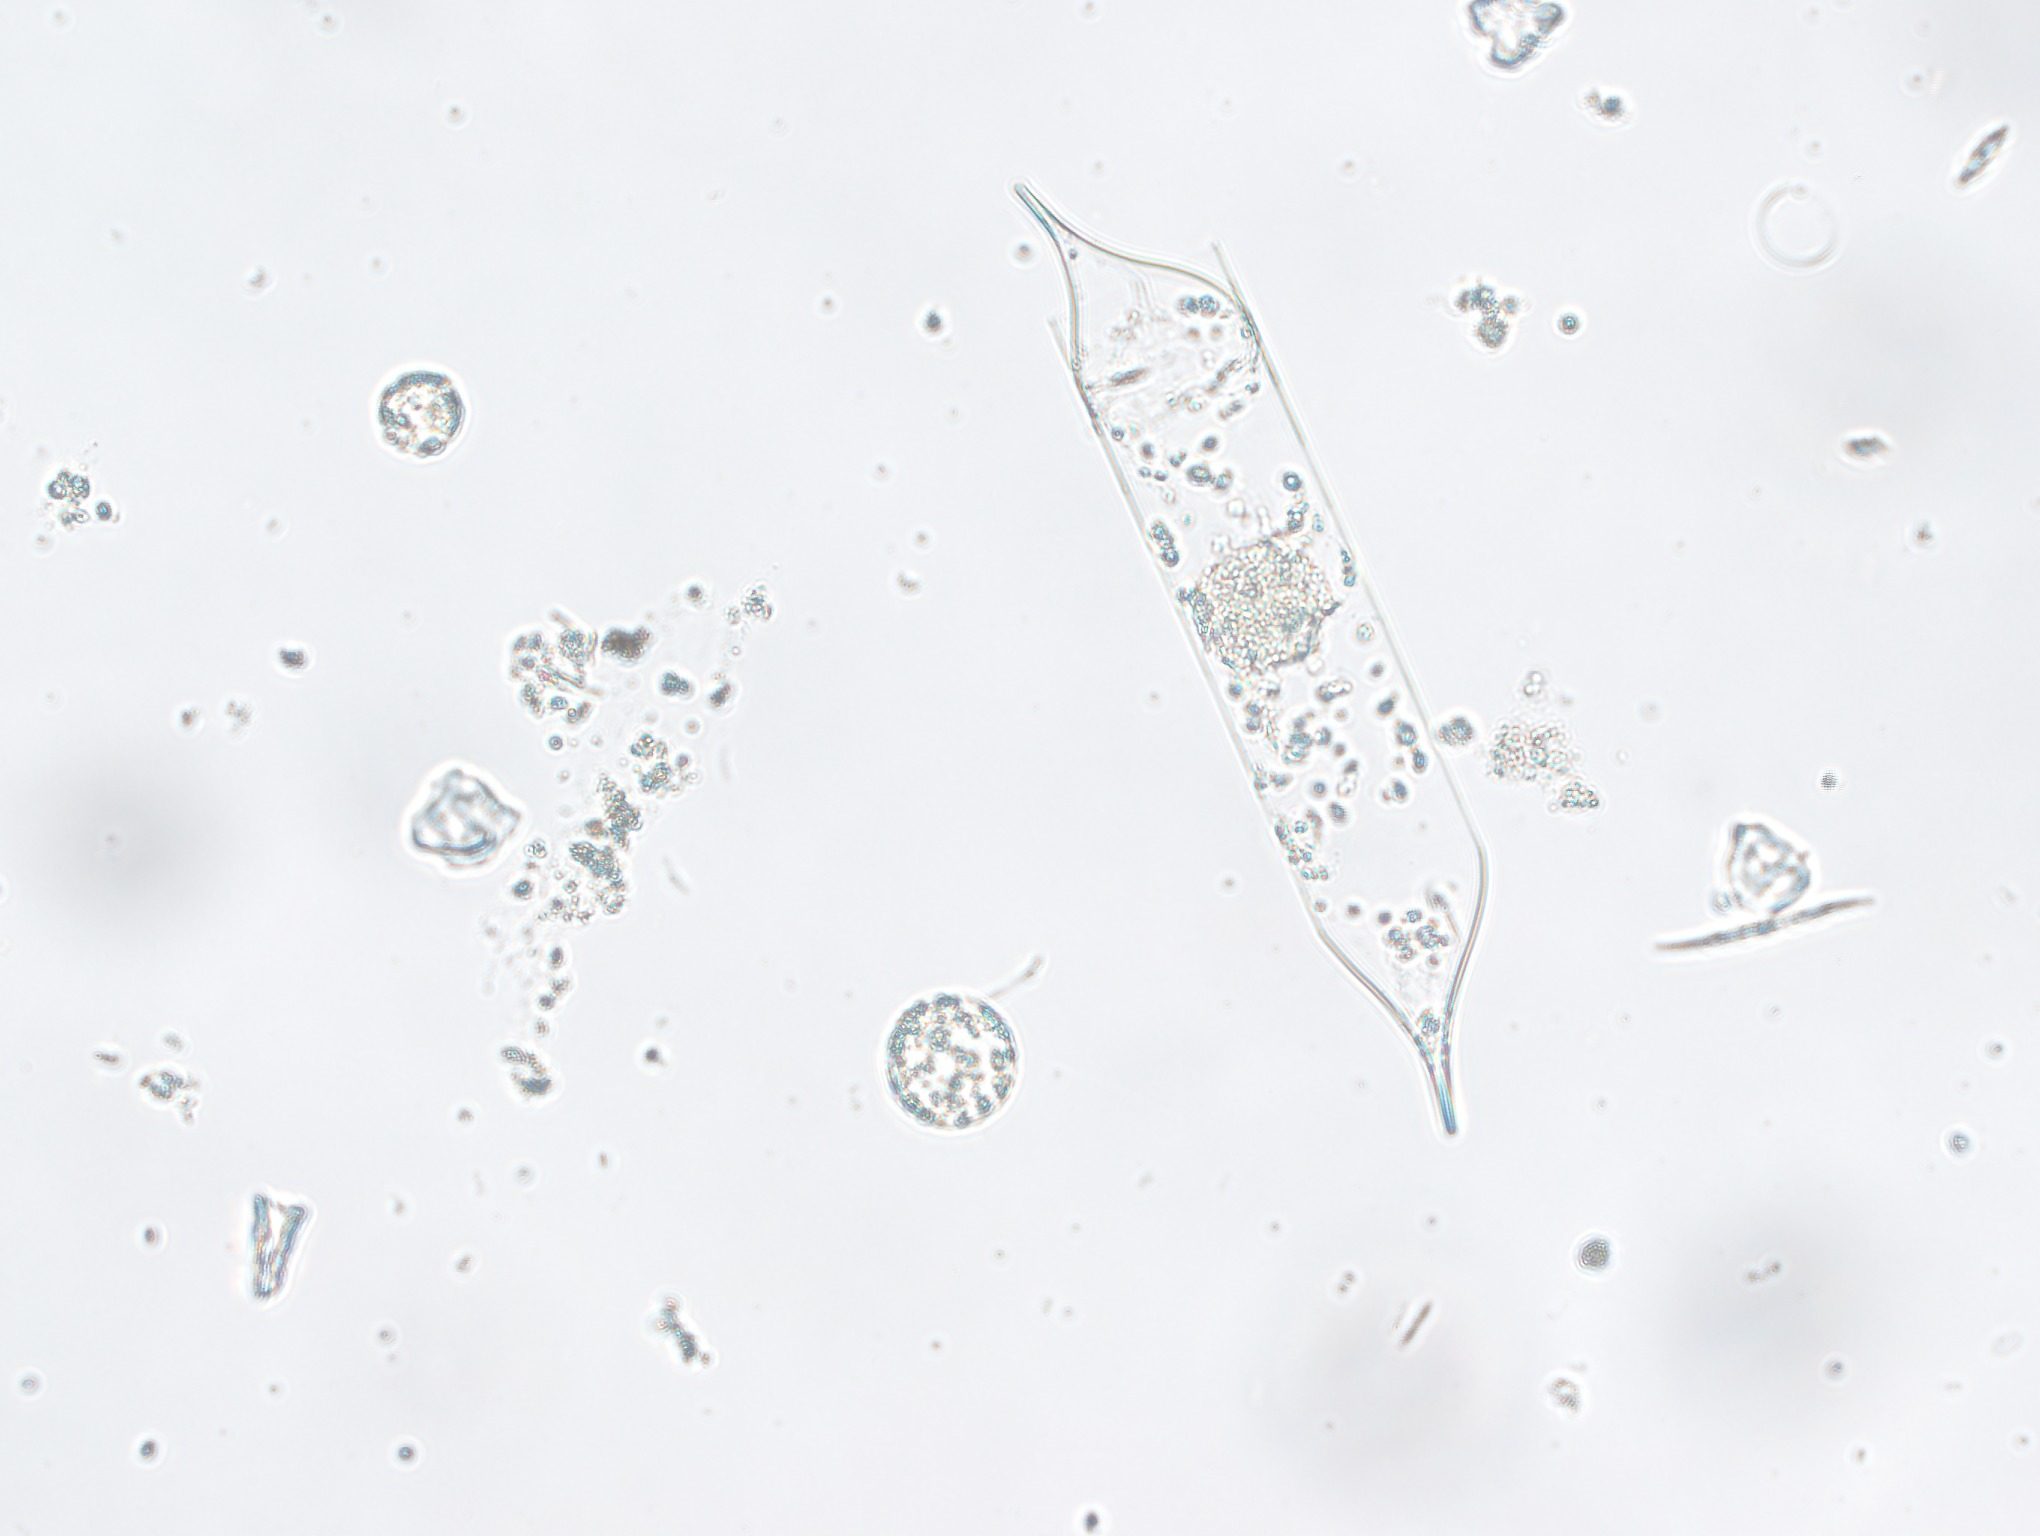pleurosigma pelagicum: (1651, 892, 1882, 976)
rhizosolenia: (1000, 177, 1503, 1162)
